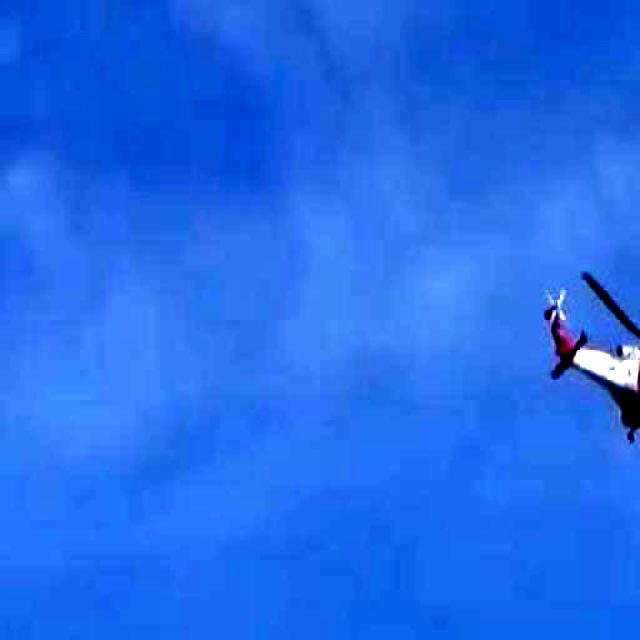drone: (486, 159, 640, 525)
